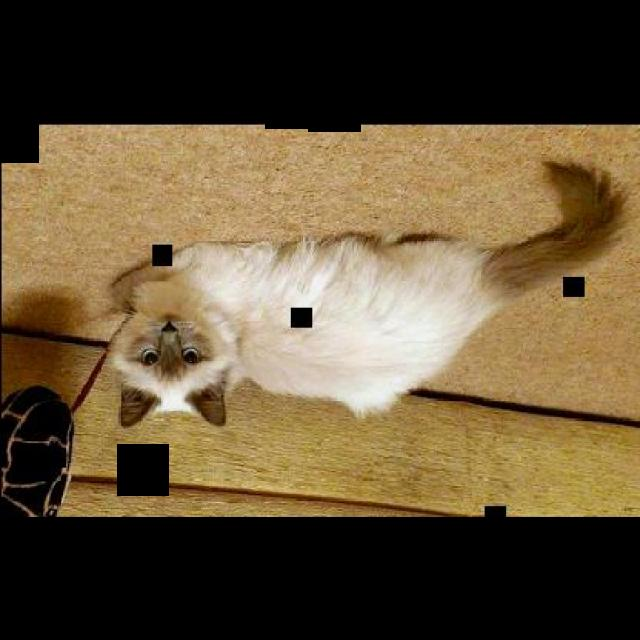unauthorized: (105, 158, 626, 428)
